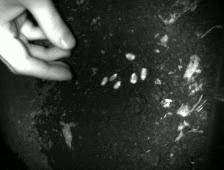corn: (138, 65, 149, 82), (111, 78, 123, 92), (122, 51, 137, 62), (128, 71, 140, 84), (98, 75, 110, 87), (107, 71, 119, 83)
